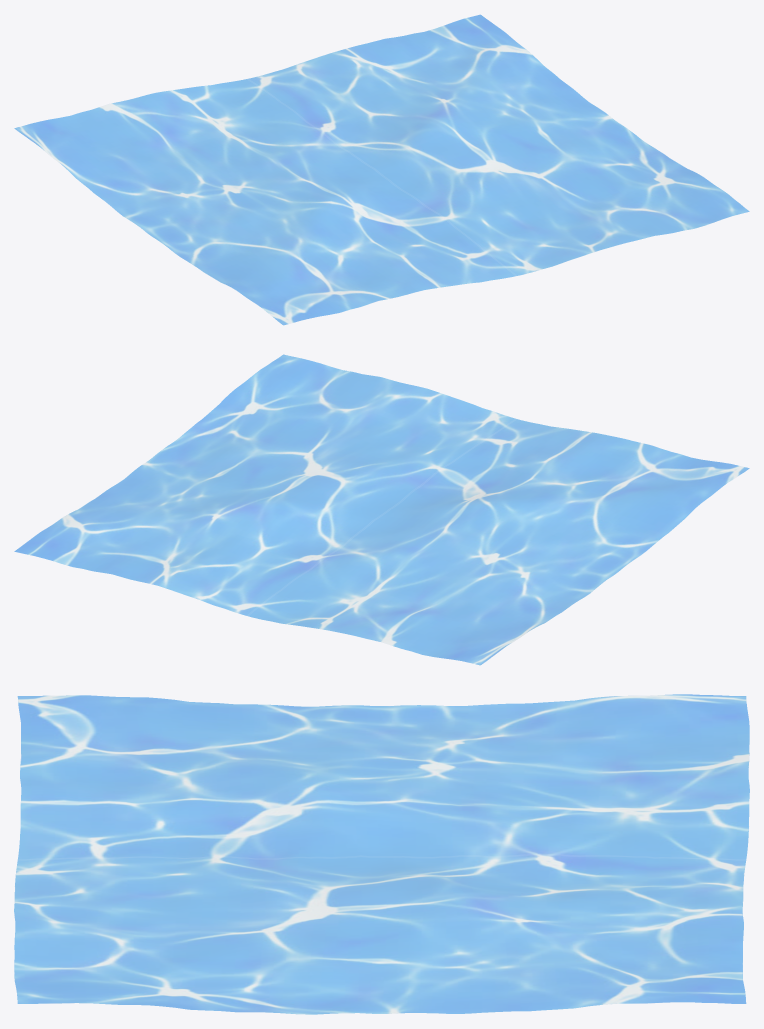
File: Water1.glb
3 renders of one model, top to bottom at view 1: azimuth 30°, elevation 25°; view 2: azimuth 150°, elevation 25°; view 3: azimuth 270°, elevation 25°, orthographic. The views are drawn at different scales.
Parts seen in each view (by area): view 1: Plane.001; view 2: Plane.001; view 3: Plane.001.
Part boxes in pixels (x1,y1,x2,y2): Plane.001: [14, 14, 749, 325]; Plane.001: [14, 354, 749, 665]; Plane.001: [14, 694, 749, 1014].
Bounding box in the file's own units: 2.03 × 0.0626 × 2.04.
Materials: 1 (1 with a texture image).
